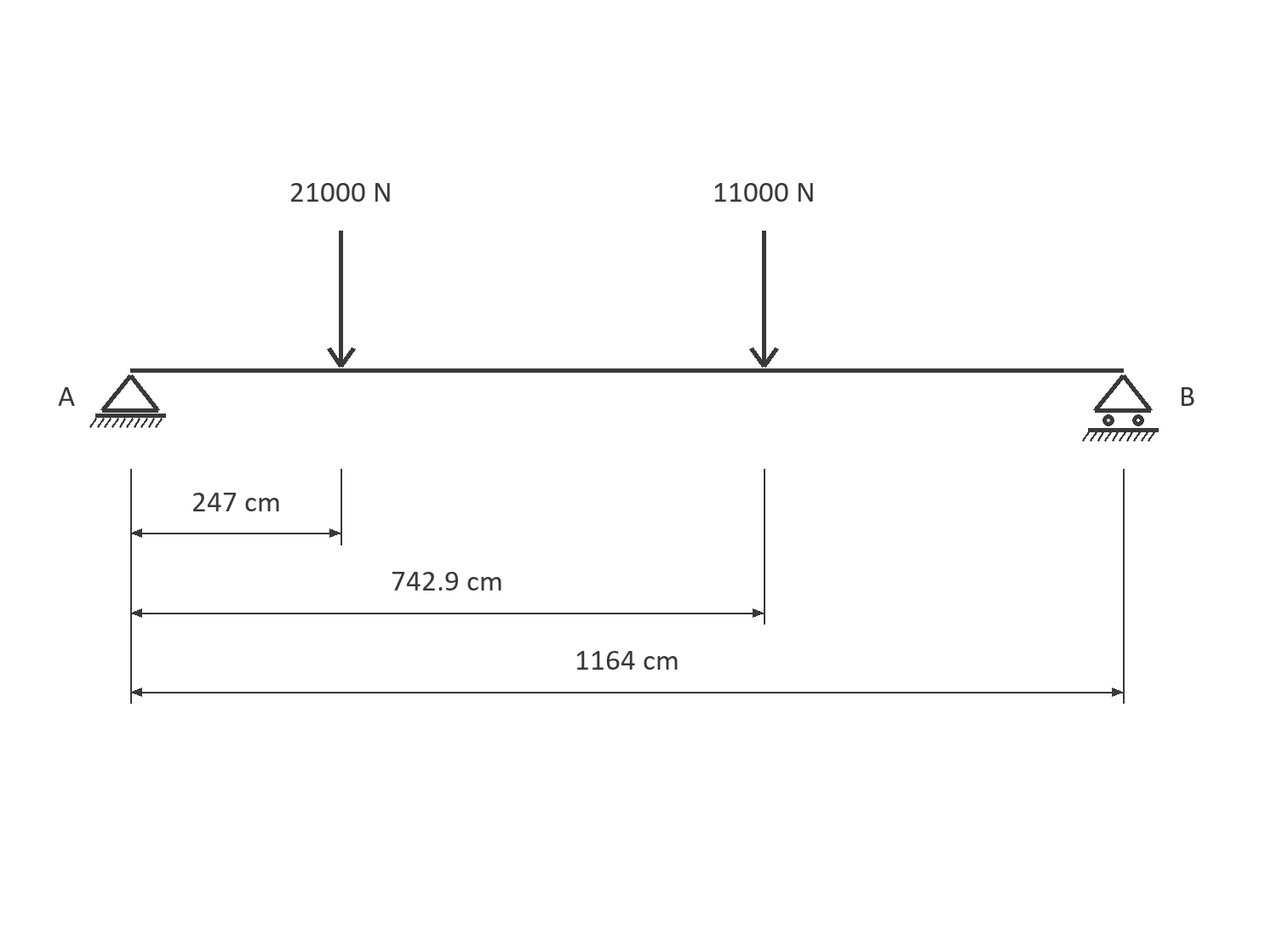pin_support: (89, 374, 166, 428)
point_load: (749, 231, 779, 368), (327, 231, 356, 368)
roller_support: (1082, 374, 1159, 442)
